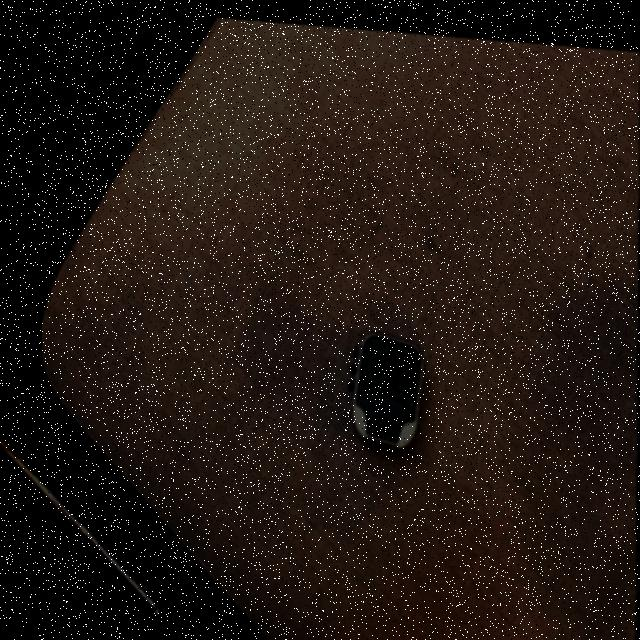adapter: (348, 322, 424, 445)
